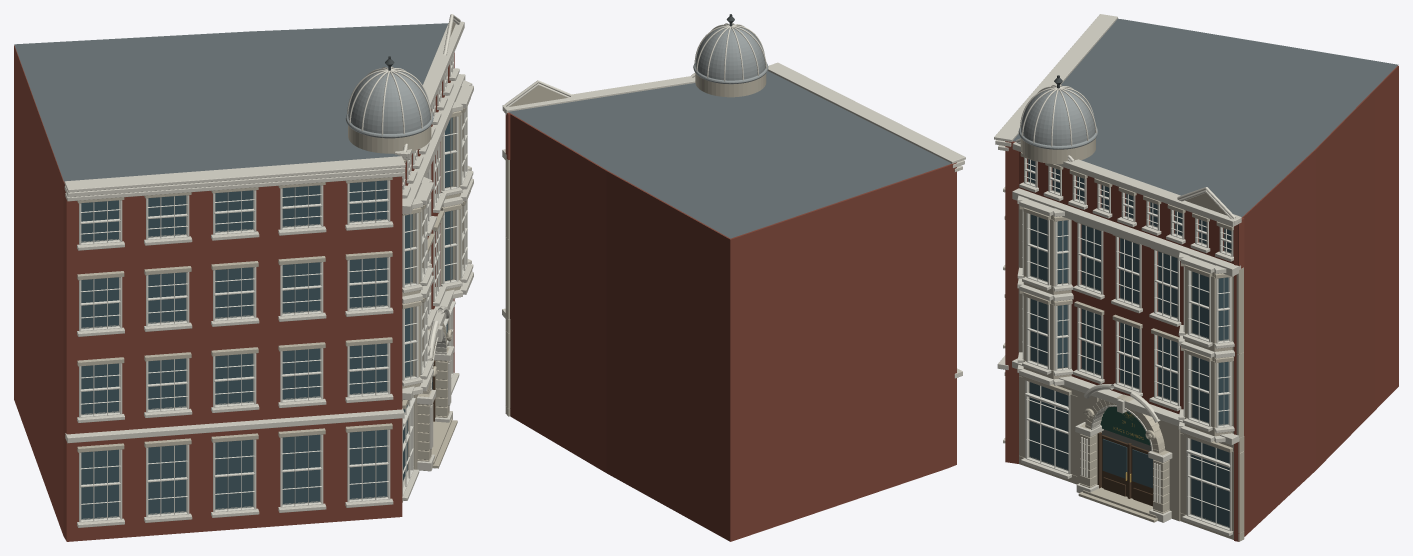
The model's file is kgs-exterior-0f42cebcbcb2.glb.
The picture shows the model from 3 angles, left to right: view 1: azimuth 30°, elevation 25°; view 2: azimuth 150°, elevation 25°; view 3: azimuth 270°, elevation 25°; orthographic projection. The views are drawn at different scales.
Visible parts, largest first — view 1: KGS.001; view 2: KGS.001; view 3: KGS.001.
Part boxes in pixels (box(x1,y1,x2,y2)): KGS.001: box(14, 14, 473, 541); KGS.001: box(502, 14, 965, 541); KGS.001: box(994, 14, 1398, 541).
Bounding box in the file's own units: 21.13 × 18.66 × 17.38.
